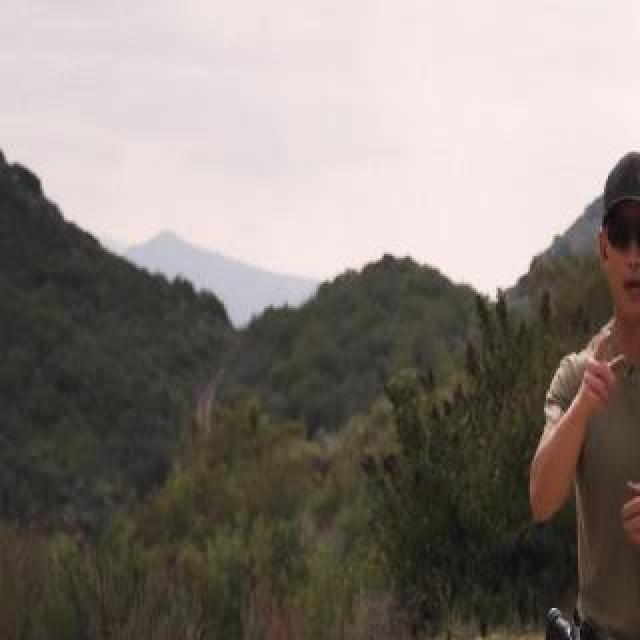Guns: (534, 594, 612, 640)
